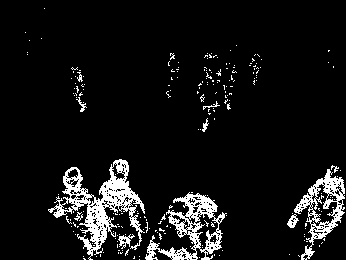person: (47, 165, 109, 258), (95, 156, 150, 260), (195, 66, 226, 134), (69, 63, 88, 113)
